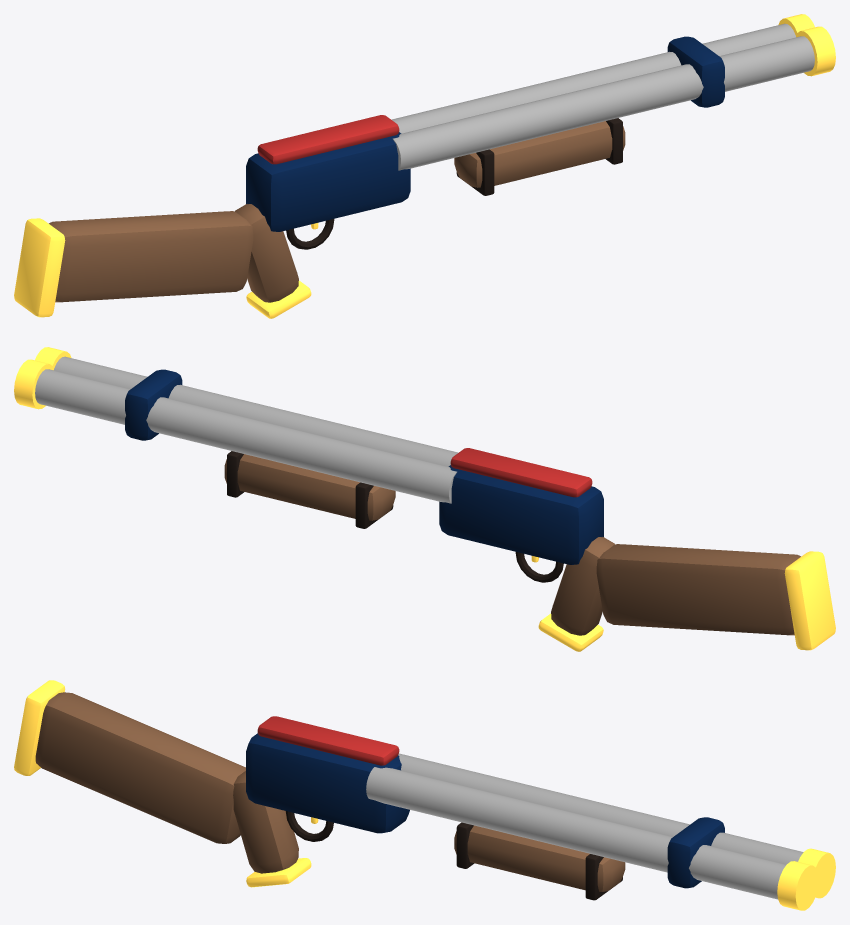
File: PS_Shotgun.glb
3 renders of one model, top to bottom at view 1: azimuth 30°, elevation 25°; view 2: azimuth 150°, elevation 25°; view 3: azimuth 330°, elevation 25°, orthographic.
Visible parts, largest first — view 1: Body.001, Paint.001; view 2: Body.001, Paint.001; view 3: Body.001, Paint.001.
Boxes of the visible parts, <box> form: Body.001: <box>14,14,835,318</box>; Paint.001: <box>246,36,724,231</box>; Body.001: <box>14,347,835,651</box>; Paint.001: <box>125,369,603,564</box>; Body.001: <box>14,680,835,910</box>; Paint.001: <box>246,733,724,888</box>.
Size of the model in its own units: 0.8603 by 0.1674 by 0.076.
Materials: 3 (3 with a texture image).
